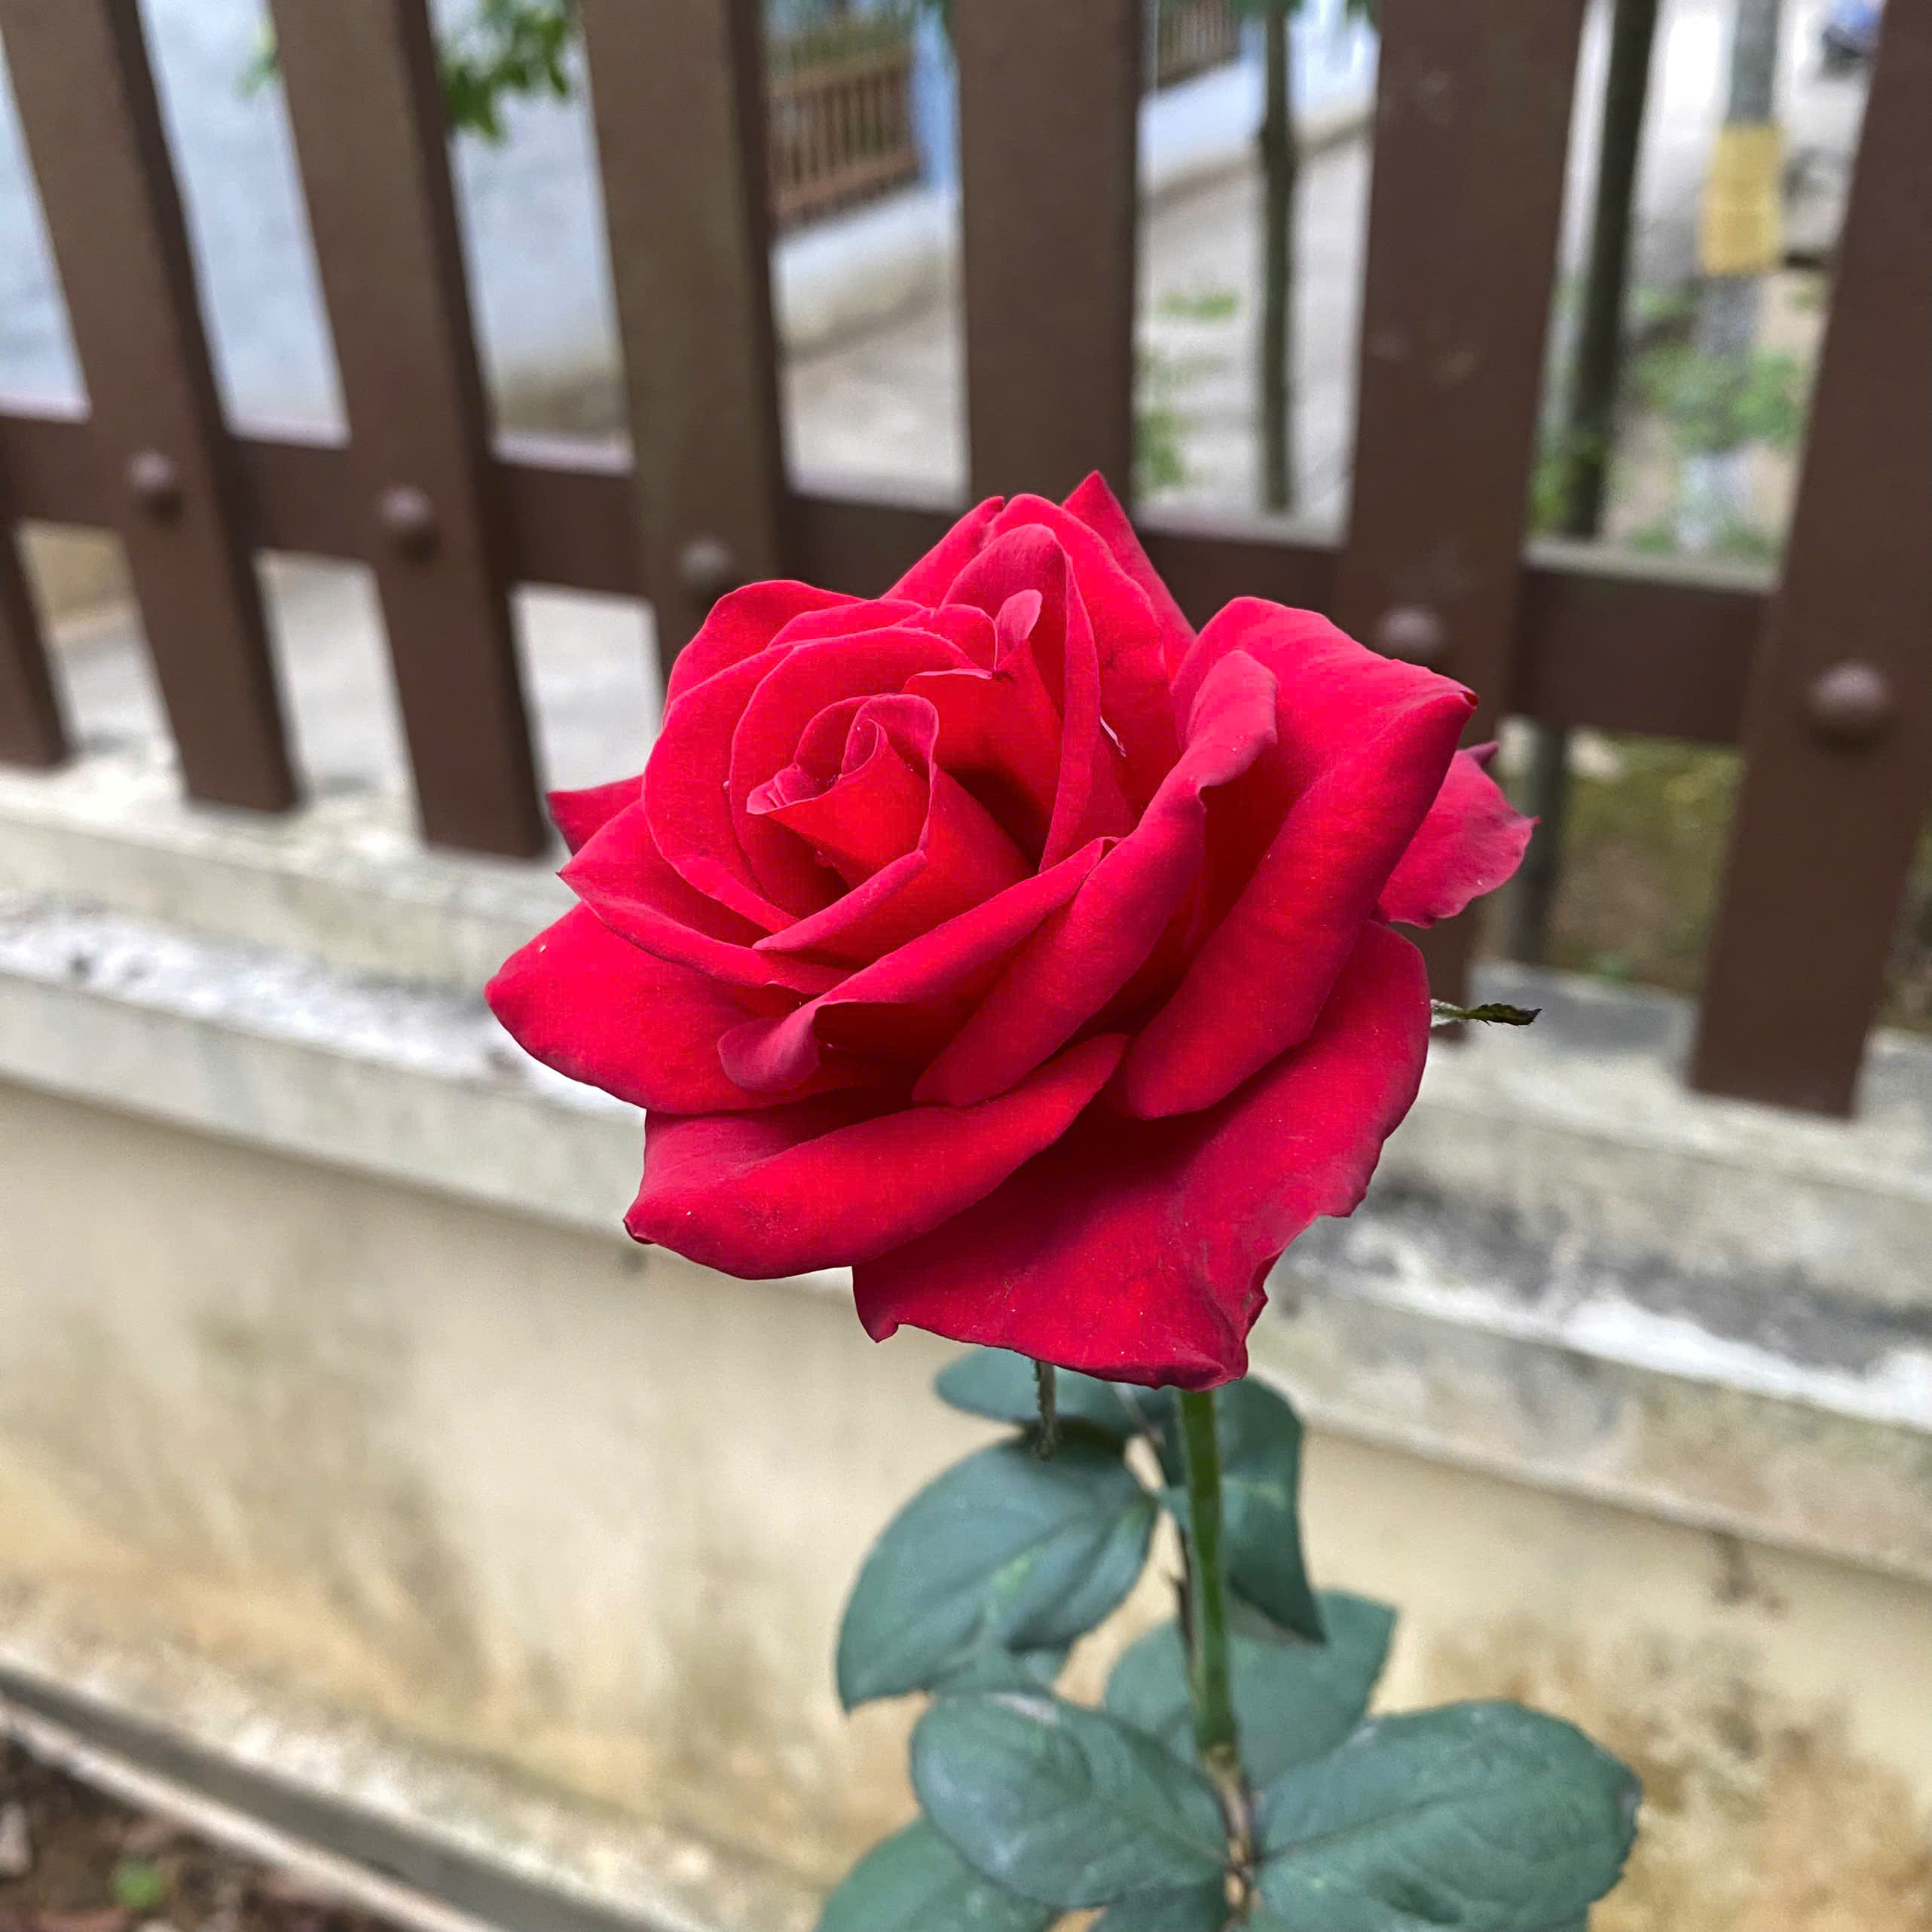hoa_hong_do: (416, 451, 1720, 1932)
